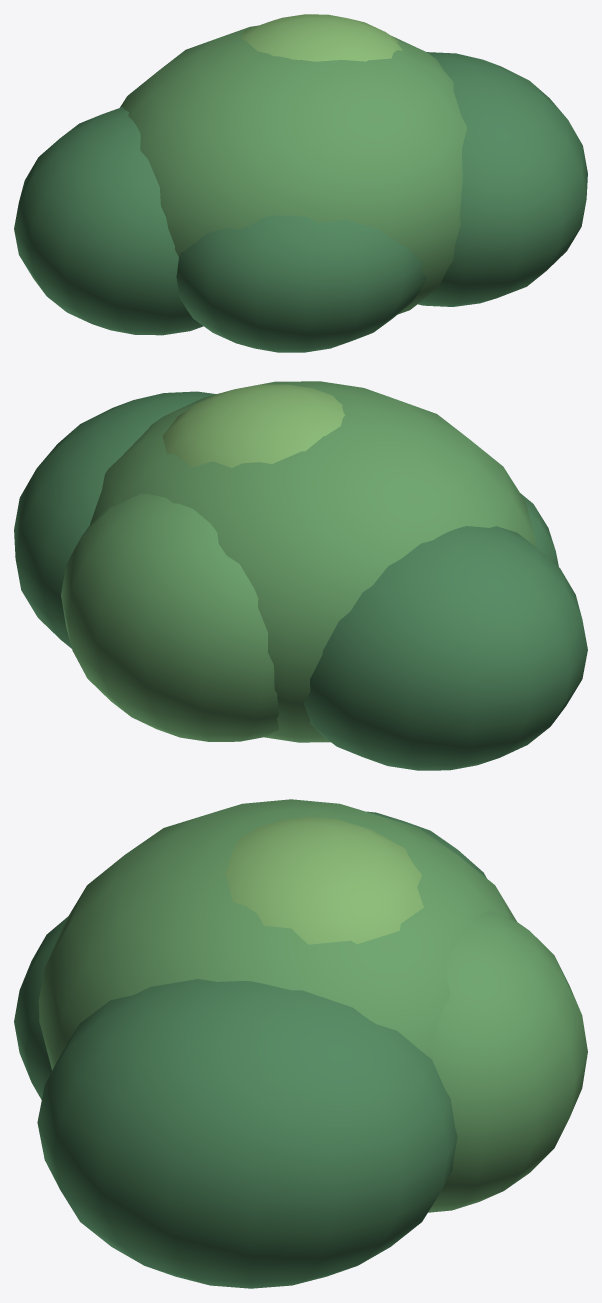
Rendered from stylized_bush.glb.
The picture shows the model from 3 angles, top to bottom: view 1: azimuth 30°, elevation 25°; view 2: azimuth 150°, elevation 25°; view 3: azimuth 270°, elevation 25°; orthographic projection. The views are drawn at different scales.
Visible parts, largest first — view 1: BushPuff_0, BushPuff_1, BushPuff_2, BushPuff_4, BushPuff_5; view 2: BushPuff_0, BushPuff_1, BushPuff_3, BushPuff_2, BushPuff_5, BushPuff_4; view 3: BushPuff_2, BushPuff_0, BushPuff_3, BushPuff_5, BushPuff_4.
Boxes of the visible parts, box(x1,y1,x2,y2) form: BushPuff_0: box(120, 25, 466, 314); BushPuff_1: box(14, 107, 203, 335); BushPuff_2: box(418, 52, 587, 306); BushPuff_4: box(176, 215, 426, 352); BushPuff_5: box(241, 14, 402, 61); BushPuff_0: box(90, 381, 536, 742); BushPuff_1: box(304, 526, 587, 770); BushPuff_3: box(61, 493, 279, 741); BushPuff_2: box(14, 391, 216, 648); BushPuff_5: box(162, 384, 344, 467); BushPuff_4: box(520, 493, 558, 566); BushPuff_2: box(37, 979, 457, 1288); BushPuff_0: box(38, 799, 516, 1070); BushPuff_3: box(428, 911, 587, 1212); BushPuff_5: box(225, 816, 423, 944); BushPuff_4: box(14, 917, 67, 1099).
Bounding box in the file's own units: 2.69 × 1.43 × 2.01.
